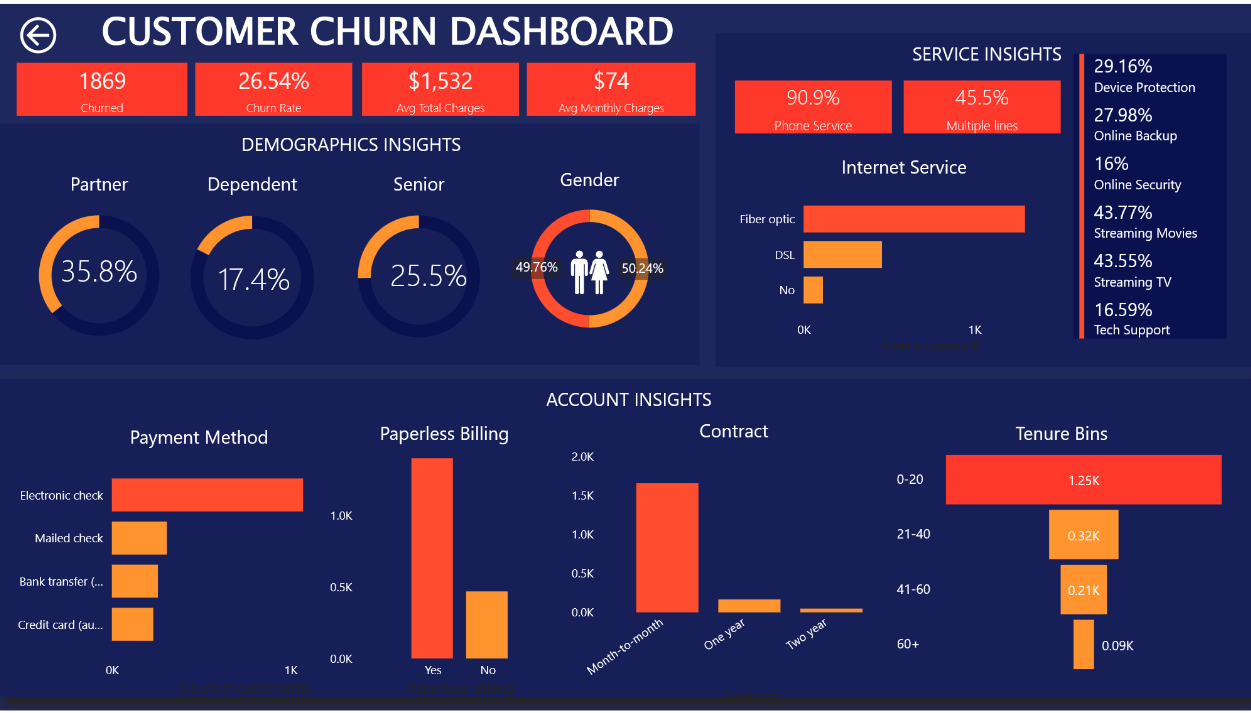

The dashboard page shown, as its layout file describes it:
{"tool":"powerbi","page":{"name":"CHURN DASHBOARD","canvas":[1280,720],"ordinal":0},"visuals":[{"type":"actionButton","box":[16,0,48,64],"z":0},{"type":"textbox","box":[83.5,0,626.2,59.1],"z":0,"group":"g9"},{"type":"shape","box":[0,122,714,246],"z":0,"group":"g2"},{"type":"pieChart","title":"Gender","fields":{"Category":["ChurnTable.Gender"],"Y":["CountNonNull(ChurnTable.customerID)"]},"box":[454,166,296,187.1],"z":0,"group":"g6"},{"type":"donutChart","title":"Senior","fields":{"Y":["CountNonNull(ChurnTable.customerID)"],"Category":["ChurnTable.Senior Citizen"]},"box":[314,170,228,189.9],"z":0,"group":"g3"},{"type":"shape","box":[0,382,1280,323.9],"z":0,"group":"g1"},{"type":"card","title":"Avg Monthly Charges","fields":{"Values":["ChurnTable.Avg Monthly Charges"]},"box":[538,60,172,54],"z":1000,"group":"g5"},{"type":"card","fields":{"Values":["ChurnTable.% ChurnedPartner"]},"box":[51.5,229.3,102.1,85.7],"z":1000,"group":"g4"},{"type":"image","box":[526.6,230.8,145.8,78.8],"z":1000,"group":"g6"},{"type":"card","fields":{"Values":["ChurnTable.% ChurnedSeniors"]},"box":[358,238.5,160,76.8],"z":1000,"group":"g3"},{"type":"card","fields":{"Values":["ChurnTable.% ChurnedDependents"]},"box":[168,242,184,76],"z":1000,"group":"g7"},{"type":"group","id":"g1","title":"Group 2","box":[0,382,1280,336],"z":1000,"group":"g9"},{"type":"funnel","title":" Tenure Bins","fields":{"Category":["ChurnTable.Tenure Bins"],"Y":["CountNonNull(ChurnTable.customerID)"]},"box":[910,424,346,264],"z":1000,"group":"g1"},{"type":"group","id":"g2","title":"Group 8","box":[0,122,750,246],"z":2000,"group":"g9"},{"type":"group","id":"g3","title":"Group 5","box":[314,170,228,188],"z":2000,"group":"g2"},{"type":"clusteredColumnChart","title":"Paperless Billing","fields":{"Category":["ChurnTable.Paperless Billing"],"Y":["CountNonNull(ChurnTable.customerID)"]},"box":[332,424,244,286],"z":2000,"group":"g1"},{"type":"group","id":"g4","title":"Group 1","box":[0,170,204,188],"z":2500,"group":"g2"},{"type":"shape","box":[730,30,550,340],"z":3000,"group":"g8"},{"type":"group","id":"g5","title":"Group 10","box":[18,60,692,54],"z":3000,"group":"g9"},{"type":"group","id":"g6","title":"Group 6","box":[454,166,296,198],"z":3000,"group":"g2"},{"type":"clusteredColumnChart","title":"Contract","fields":{"Y":["CountNonNull(ChurnTable.customerID)"],"Category":["ChurnTable.Contract"]},"box":[576,422,346,296],"z":3000,"group":"g1"},{"type":"group","id":"g7","title":"Group 4","box":[164,170,188,192],"z":3500,"group":"g2"},{"type":"group","id":"g8","title":"Group 7","box":[730,30,550,340],"z":4000,"group":"g9"},{"type":"card","title":"Avg Monthly Charges","fields":{"Values":["ChurnTable.Avg Total Charges"]},"box":[370,60,160,54],"z":4000,"group":"g5"},{"type":"donutChart","title":"Partner","fields":{"Y":["CountNonNull(ChurnTable.customerID)"],"Category":["ChurnTable.Partner"]},"box":[0,170,204,188],"z":4000,"group":"g4"},{"type":"clusteredBarChart","title":"Payment Method","fields":{"Category":["ChurnTable.Payment Method"],"Y":["CountNonNull(ChurnTable.customerID)"]},"box":[0,428,408,282],"z":4000,"group":"g1"},{"type":"card","fields":{"Values":["ChurnTable.Churned"]},"box":[18,60,174,54],"z":5000,"group":"g5"},{"type":"donutChart","title":"Dependent","fields":{"Y":["CountNonNull(ChurnTable.customerID)"],"Category":["ChurnTable.Dependents"]},"box":[164,170,188,192],"z":6000,"group":"g7"},{"type":"card","title":"Multiple Lines","fields":{"Values":["ChurnTable.% Churned Multiple lines"]},"box":[922,78,160,54],"z":7000,"group":"g8"},{"type":"multiRowCard","fields":{"Values":["ChurnTable.% Churned Customers with Device Protection","ChurnTable.% Churned Customers with Online Backup","ChurnTable.% Churned Customers with Online Security","ChurnTable.% Churned Customers with Streaming Movies","ChurnTable.% Churned Customers with Streaming TV","ChurnTable.% Churned Customers with Tech Support"]},"box":[1090,46.3,166,315],"z":8000,"group":"g8"},{"type":"barChart","title":" Internet Service","fields":{"Category":["ChurnTable.Internet Service"],"Y":["CountNonNull(ChurnTable.customerID)"]},"box":[743.7,153.1,356.9,205.7],"z":9000,"group":"g8"},{"type":"card","title":"Phone Service","fields":{"Values":["ChurnTable.% Churned Customers with Phone Service"]},"box":[750,78,160,54],"z":11000,"group":"g8"},{"type":"card","title":"Avg Monthly Charges","fields":{"Values":["ChurnTable.Churn Rate"]},"box":[200,60,160,54],"z":12000,"group":"g5"},{"type":"group","id":"g9","title":"Group 11","box":[0,0,1280,718],"z":12004}]}

Visuals, with their boxes in screenshot pixels (x1, y1, x2, y2), scaled from the page's 1280x720 canvas onto the 1251x713 screenshot:
actionButton: x1=16, y1=0, x2=63, y2=63
textbox: x1=82, y1=0, x2=694, y2=59
shape: x1=0, y1=121, x2=698, y2=364
"Gender" pieChart: x1=444, y1=164, x2=733, y2=350
"Senior" donutChart: x1=307, y1=168, x2=530, y2=356
shape: x1=0, y1=378, x2=1250, y2=699
"Avg Monthly Charges" card: x1=526, y1=59, x2=694, y2=113
card - ChurnTable.% ChurnedPartner: x1=50, y1=227, x2=150, y2=312
image: x1=515, y1=229, x2=657, y2=307
card - ChurnTable.% ChurnedSeniors: x1=350, y1=236, x2=506, y2=312
card - ChurnTable.% ChurnedDependents: x1=164, y1=240, x2=344, y2=315
"Group 2" group: x1=0, y1=378, x2=1250, y2=711
" Tenure Bins" funnel: x1=889, y1=420, x2=1228, y2=681
"Group 8" group: x1=0, y1=121, x2=733, y2=364
"Group 5" group: x1=307, y1=168, x2=530, y2=355
"Paperless Billing" clusteredColumnChart: x1=324, y1=420, x2=563, y2=703
"Group 1" group: x1=0, y1=168, x2=199, y2=355
shape: x1=713, y1=30, x2=1250, y2=366
"Group 10" group: x1=18, y1=59, x2=694, y2=113
"Group 6" group: x1=444, y1=164, x2=733, y2=360
"Contract" clusteredColumnChart: x1=563, y1=418, x2=901, y2=711
"Group 4" group: x1=160, y1=168, x2=344, y2=358
"Group 7" group: x1=713, y1=30, x2=1250, y2=366
"Avg Monthly Charges" card: x1=362, y1=59, x2=518, y2=113
"Partner" donutChart: x1=0, y1=168, x2=199, y2=355
"Payment Method" clusteredBarChart: x1=0, y1=424, x2=399, y2=703
card - ChurnTable.Churned: x1=18, y1=59, x2=188, y2=113
"Dependent" donutChart: x1=160, y1=168, x2=344, y2=358
"Multiple Lines" card: x1=901, y1=77, x2=1057, y2=131
multiRowCard - ChurnTable.% Churned Customers with Device Protection x ChurnTable.% Churned Customers with Online Backup: x1=1065, y1=46, x2=1228, y2=358
" Internet Service" barChart: x1=727, y1=152, x2=1076, y2=355
"Phone Service" card: x1=733, y1=77, x2=889, y2=131
"Avg Monthly Charges" card: x1=195, y1=59, x2=352, y2=113
"Group 11" group: x1=0, y1=0, x2=1250, y2=711
